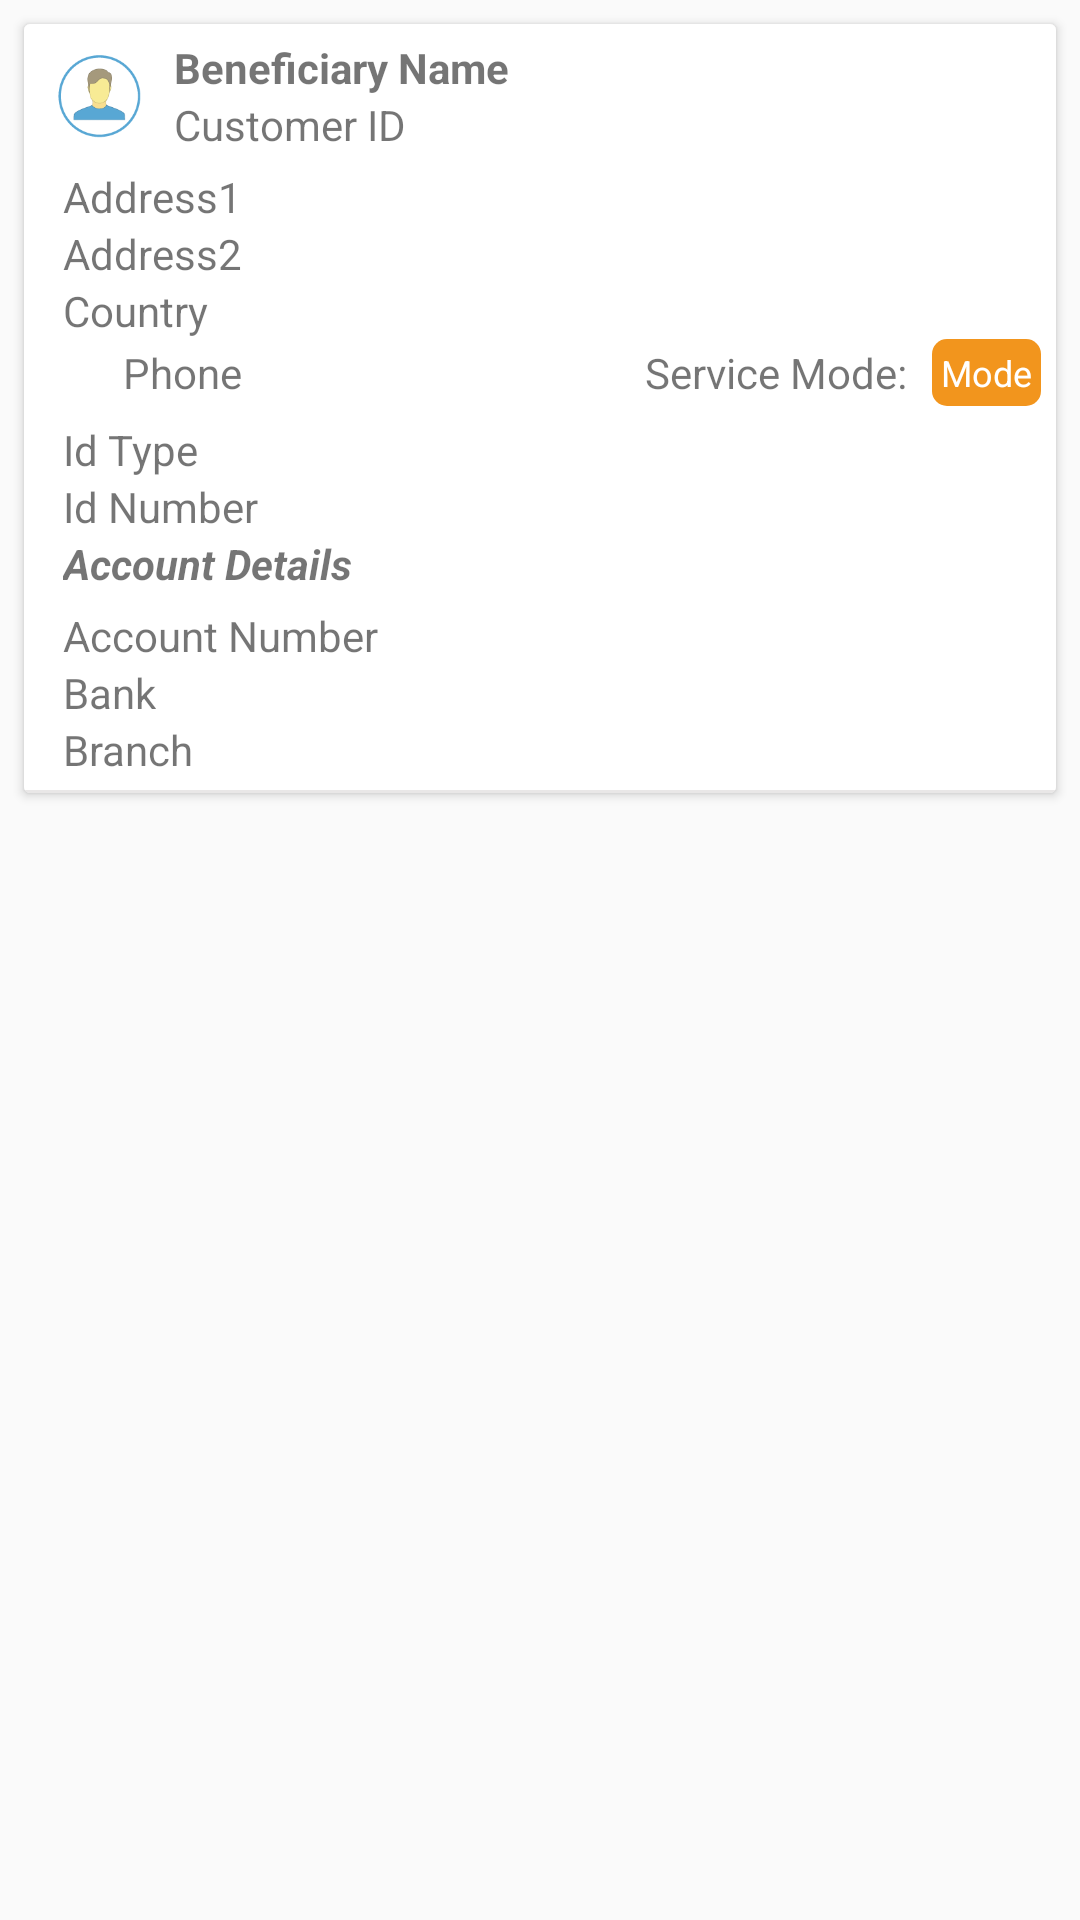

Screen size 1080px×1920px. Icon name, then its box in pixels as bbox=(x1, y1, x2, y2):
prof picc: bbox=(58, 55, 141, 137)
